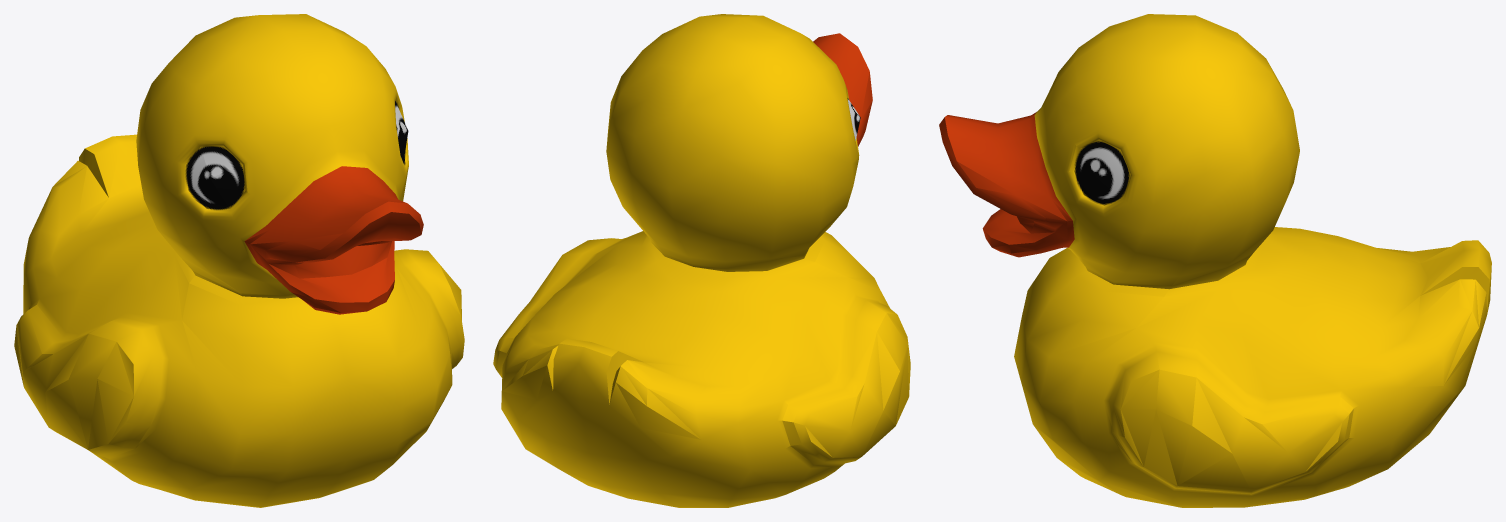
The model's file is rubber_duck.obj.
The picture shows the model from 3 angles, left to right: view 1: azimuth 30°, elevation 25°; view 2: azimuth 150°, elevation 25°; view 3: azimuth 270°, elevation 25°; orthographic projection. The views are drawn at different scales.
Parts seen in each view (by area): view 1: duck; view 2: duck; view 3: duck.
Part boxes in pixels (x1=…): duck: x1=14, y1=14, x2=464, y2=507; duck: x1=493, y1=14, x2=910, y2=507; duck: x1=939, y1=14, x2=1491, y2=507.
Bounding box in the file's own units: 3.13 × 3.38 × 3.96.
1 material, 1 textured.
